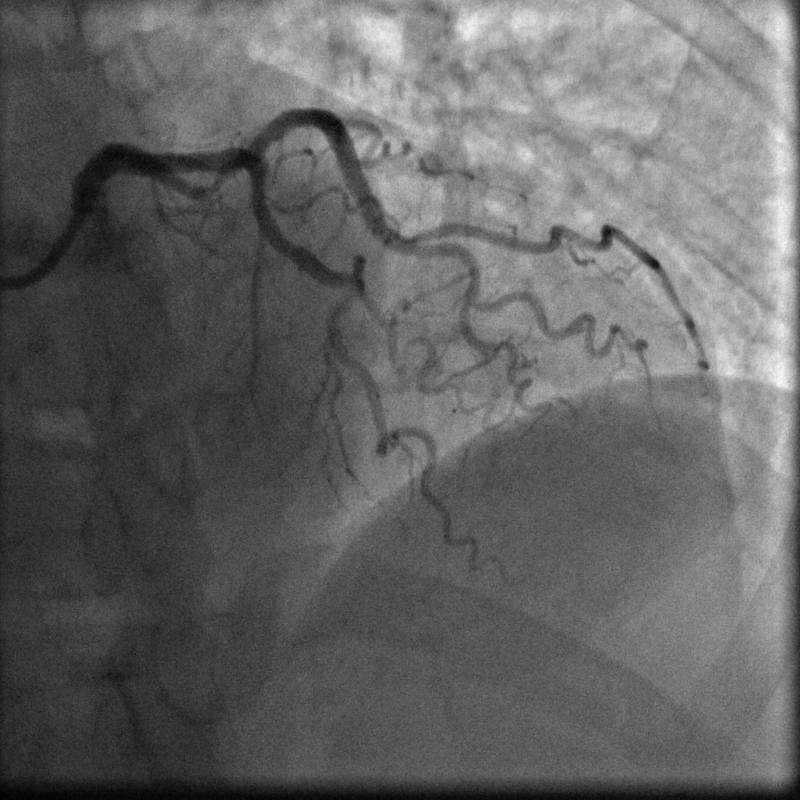Stenosis: (183, 164, 241, 194)
